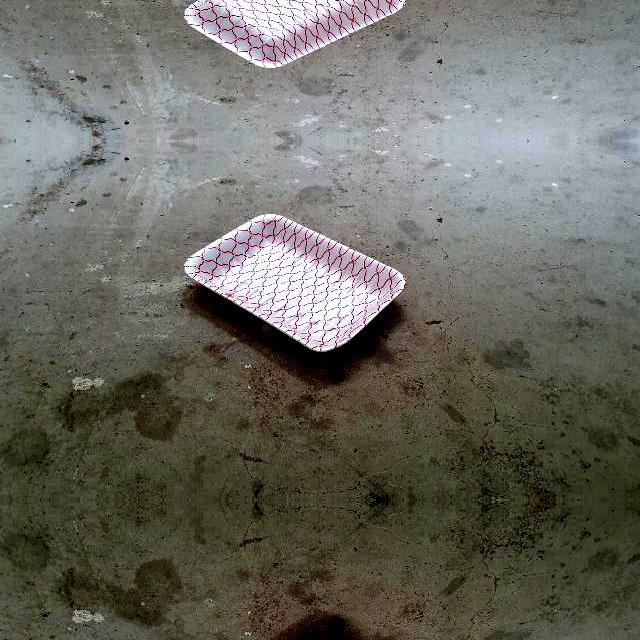Styrofoam: (187, 212, 406, 352), (184, 213, 406, 351), (186, 0, 405, 68), (184, 0, 405, 67)
